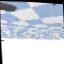drone: (1, 40, 5, 42)
